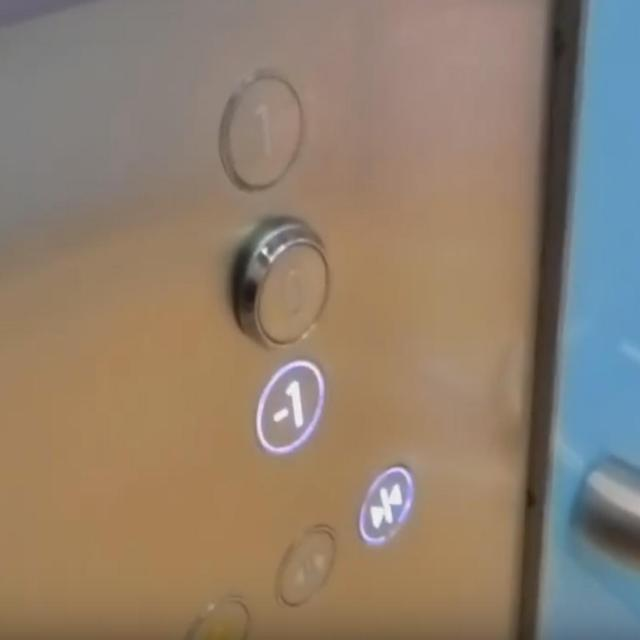-1: (253, 357, 327, 456)
0: (232, 215, 335, 352)
1: (217, 67, 304, 196)
close: (355, 462, 415, 546)
open: (274, 521, 340, 611)
